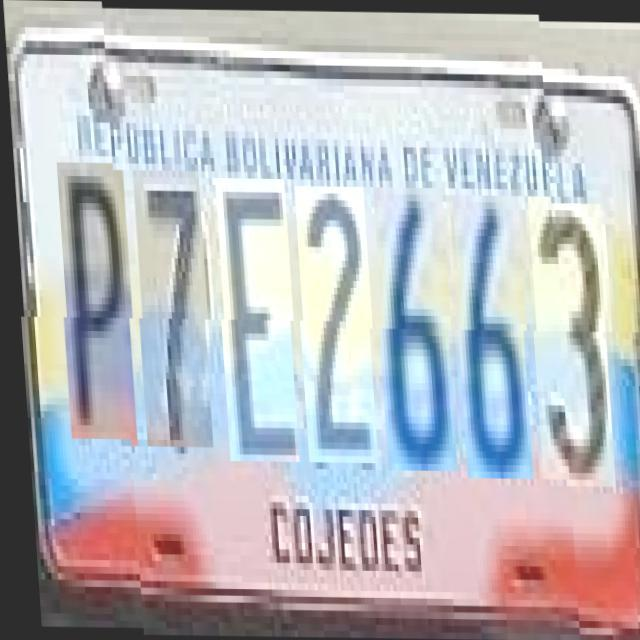2: (292, 185, 375, 462)
3: (526, 194, 612, 478)
6: (370, 186, 454, 470), (450, 193, 530, 478)
7: (130, 170, 210, 447)
E: (212, 178, 296, 462)
P: (55, 169, 135, 446)
